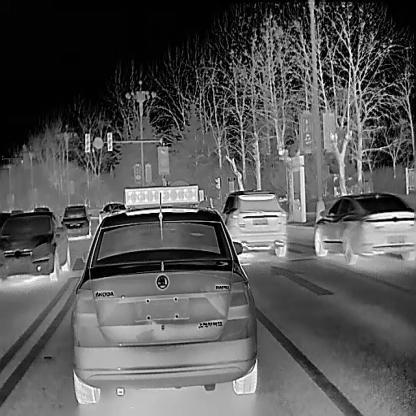car: (72, 182, 257, 404), (314, 190, 416, 263), (0, 211, 69, 281), (221, 188, 289, 256), (61, 203, 92, 240), (98, 203, 126, 224)
